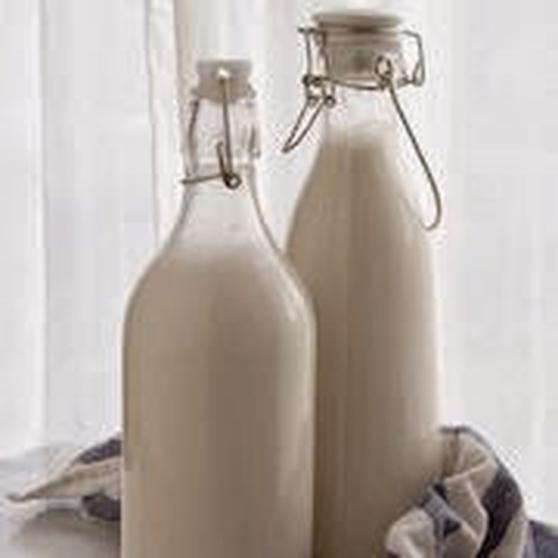milk: (120, 58, 315, 558), (284, 11, 446, 558)
